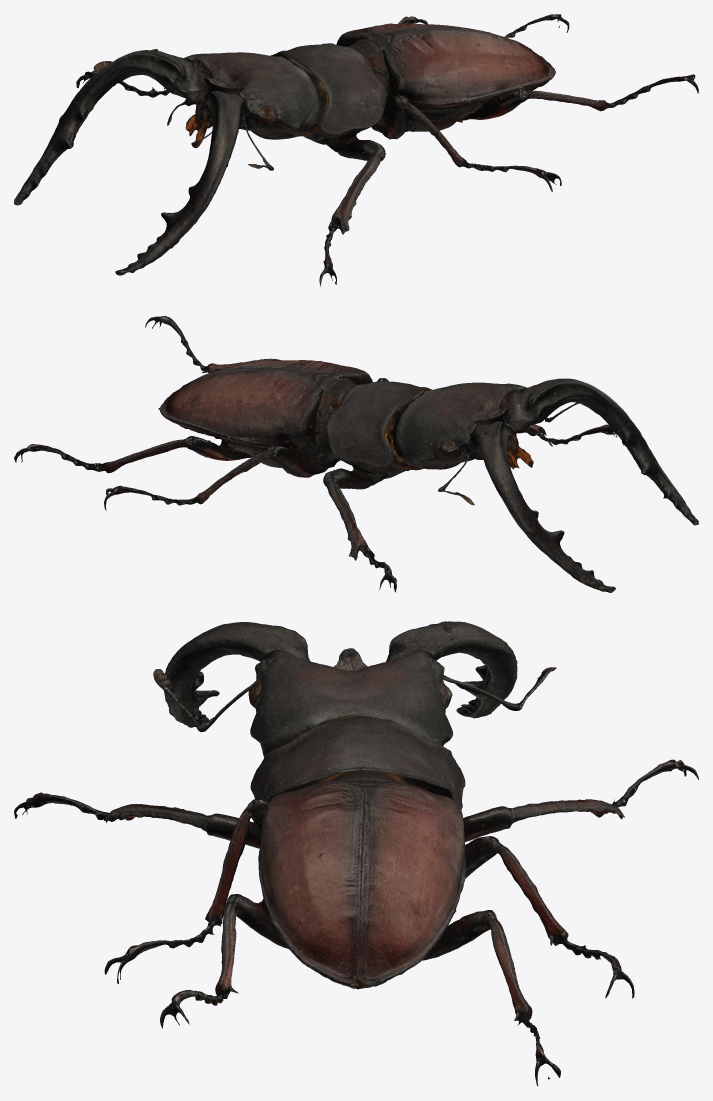
The model's file is Sawtooth_Stag_FINAL.glb.
The picture shows the model from 3 angles, top to bottom: view 1: azimuth 30°, elevation 25°; view 2: azimuth 150°, elevation 25°; view 3: azimuth 270°, elevation 25°; orthographic projection. The views are drawn at different scales.
Visible parts, largest first — view 1: world; view 2: world; view 3: world.
Part boxes in pixels (x1,y1,x2,y2): world: (14,14,698,286); world: (14,316,698,592); world: (14,621,698,1085).
Bounding box in the file's own units: 6.22 × 1.34 × 4.6.
Materials: 1 (1 with a texture image).
